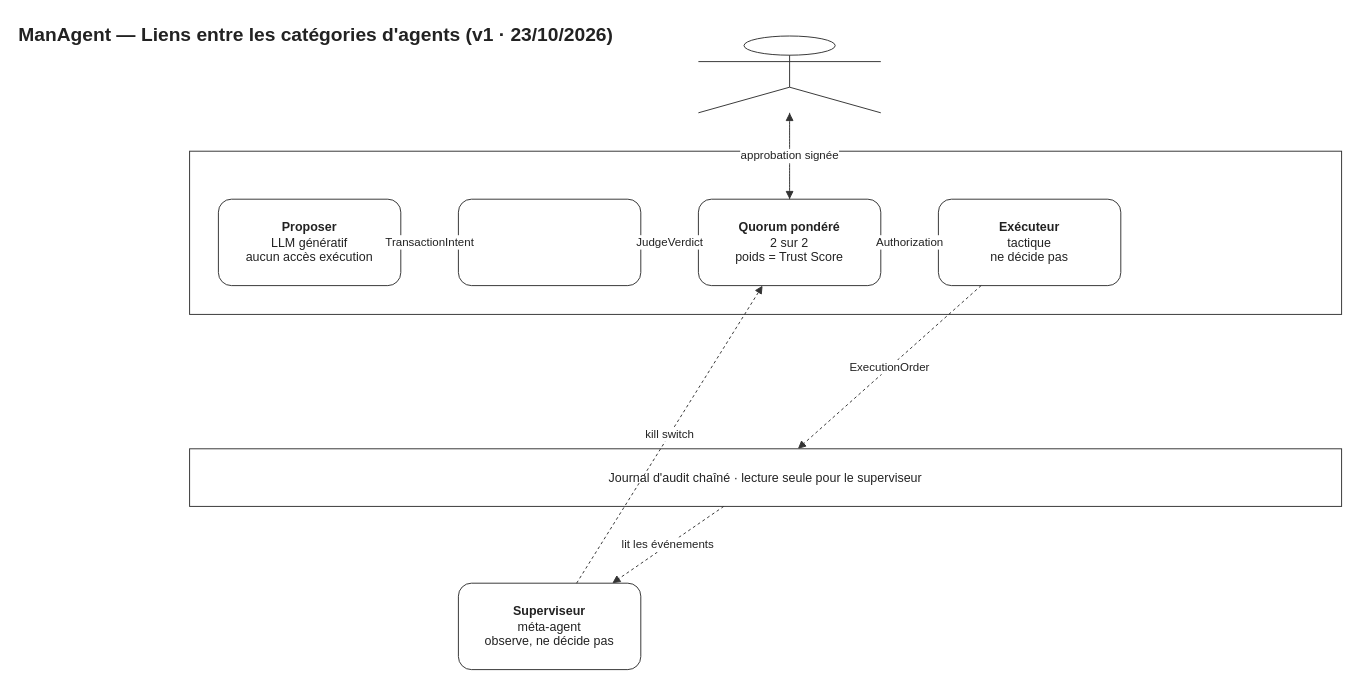
This 1358x686 diagram has some shape labels left out. The box of each missing label's shape, as (x1, y1, x2, y2) in pixels:
Couche agents : ils n'échangent que des contrats Pydantic, jamais de code: (189, 150, 1342, 314)
Juges Risque · Conformité règles déterministes: (457, 198, 641, 286)
Superviseur humain (mobile): (697, 35, 881, 113)
